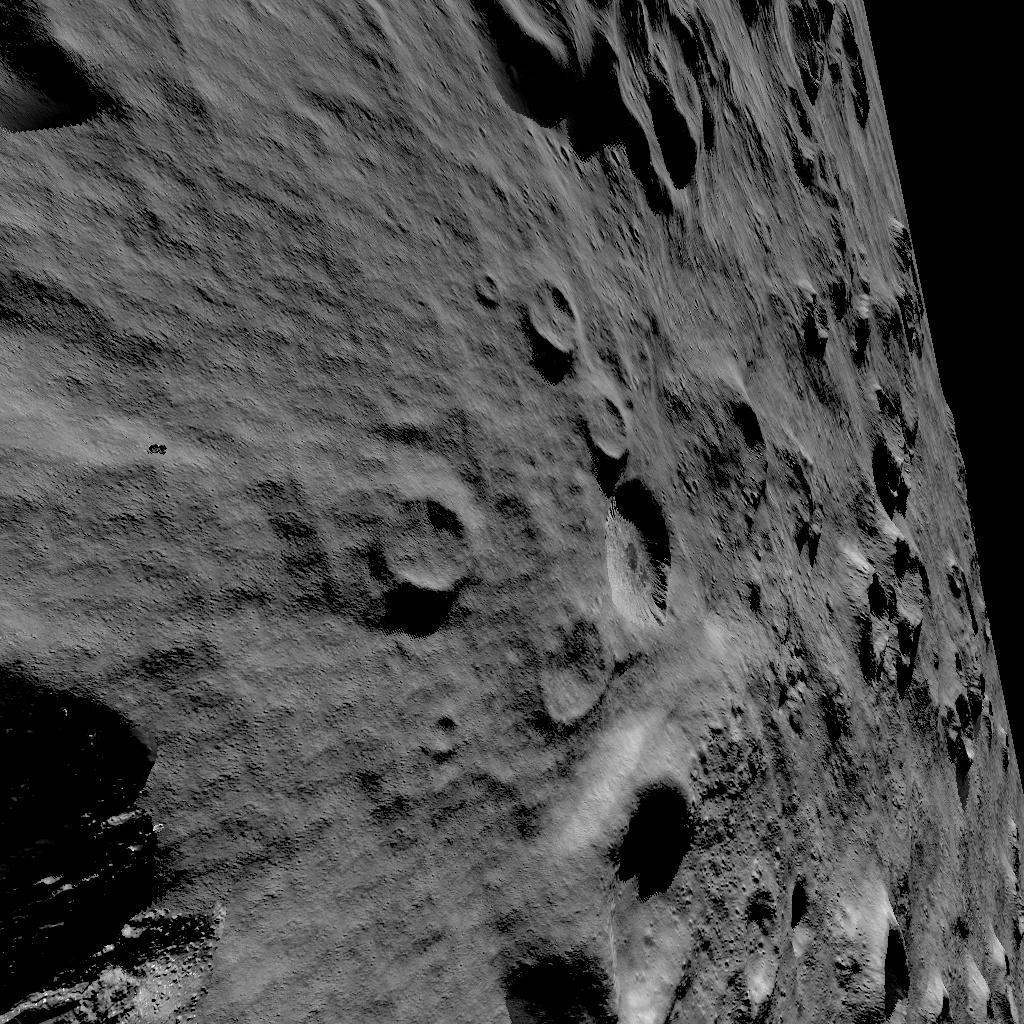Boulders: (0, 643, 264, 1024), (0, 0, 211, 137)
Crater: (473, 0, 724, 223), (520, 761, 716, 1024), (844, 529, 996, 773), (702, 356, 822, 566), (736, 0, 870, 172), (576, 392, 668, 627), (732, 868, 822, 1024), (376, 494, 476, 604), (844, 882, 917, 1024), (526, 276, 585, 366)
Plan surface: (224, 0, 462, 485), (276, 645, 508, 1024)
